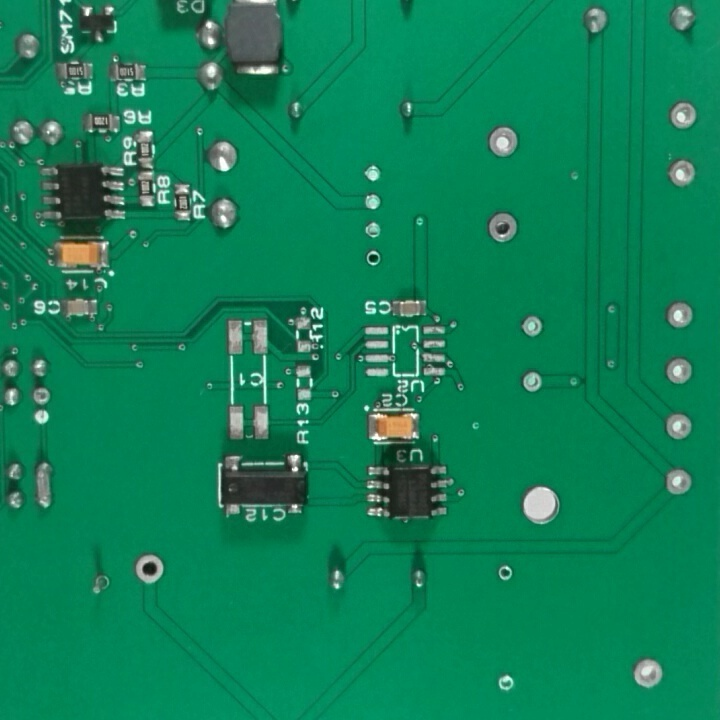F: (484, 209, 520, 249), (485, 123, 522, 161), (629, 658, 667, 691), (661, 355, 696, 389), (131, 554, 167, 587), (667, 100, 701, 132), (662, 411, 693, 446), (667, 158, 698, 192), (664, 300, 696, 332), (663, 469, 695, 498), (514, 313, 546, 341), (521, 369, 543, 394), (493, 673, 518, 694), (31, 386, 53, 409), (362, 163, 384, 186), (363, 192, 385, 213), (363, 220, 384, 241), (494, 564, 517, 583), (91, 573, 113, 592), (364, 249, 384, 269)
P: (32, 460, 58, 514)
